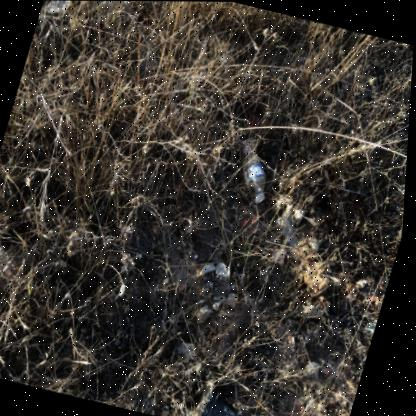Plastic: (244, 138, 267, 202), (397, 41, 414, 51)
Waste: (46, 0, 70, 14), (256, 194, 267, 203)
